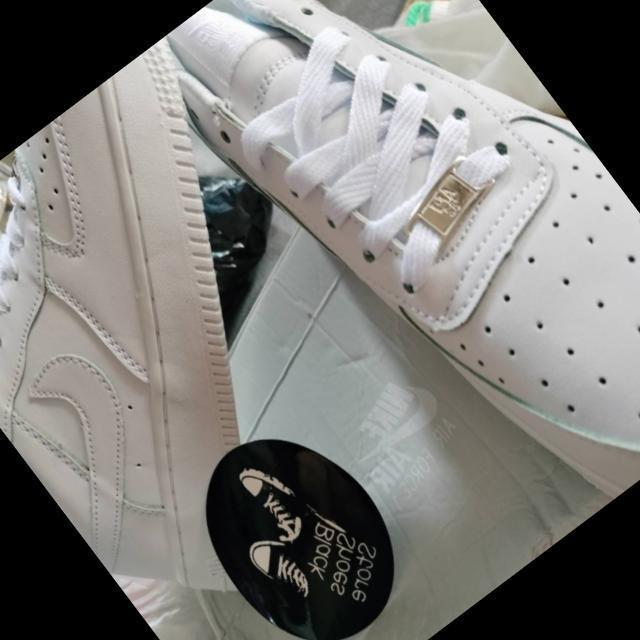nike fake air force: (133, 0, 640, 566), (0, 29, 444, 613)
